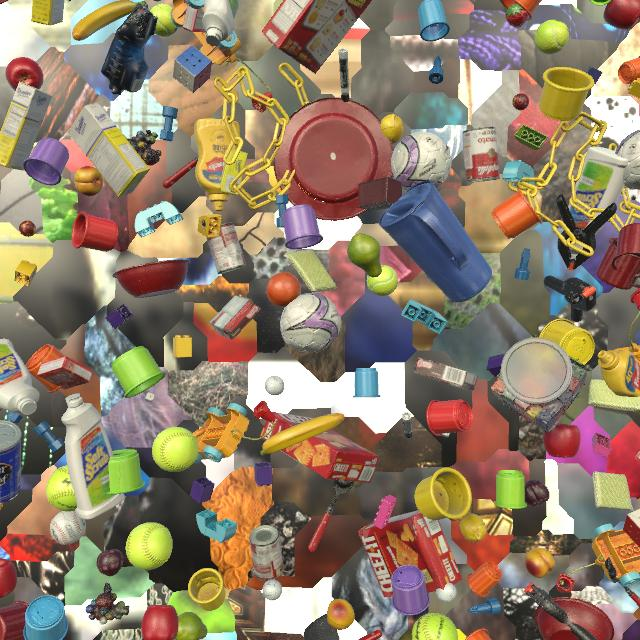ycb_002_master_chef_can: (0, 420, 22, 504)
ycb_003_cracker_box: (358, 510, 462, 597), (259, 412, 379, 483), (262, 0, 372, 74), (68, 0, 71, 2)
ycb_004_sugar_box: (68, 103, 150, 197), (0, 82, 52, 171), (221, 149, 248, 195), (31, 0, 65, 25)
ycb_005_tomato_soup_can: (462, 127, 500, 183), (207, 222, 246, 274), (249, 525, 284, 581)
ycb_006_mustard_bottle: (194, 118, 240, 211), (598, 350, 640, 415)
ycb_008_pudding_box: (209, 295, 261, 340), (414, 357, 478, 390)
ycb_009_gelatin_box: (37, 356, 93, 390), (182, 4, 205, 32), (635, 451, 640, 462)
ycb_011_banana: (260, 413, 345, 456), (72, 0, 146, 41)
ycb_012_strawberry: (505, 4, 528, 28)
ycb_013_apple: (141, 605, 179, 640), (543, 423, 581, 458), (5, 57, 44, 91), (603, 0, 640, 30), (0, 558, 17, 598)
ycb_014_lemon: (460, 513, 487, 542), (381, 114, 403, 144)
ycb_015_peach: (525, 548, 555, 578), (74, 166, 103, 196), (327, 599, 355, 630)
ycb_016_pear: (347, 234, 382, 277), (174, 612, 208, 640)
ycb_017_orange: (266, 272, 301, 307)
ycb_018_plum: (97, 549, 124, 576), (525, 480, 550, 507)
